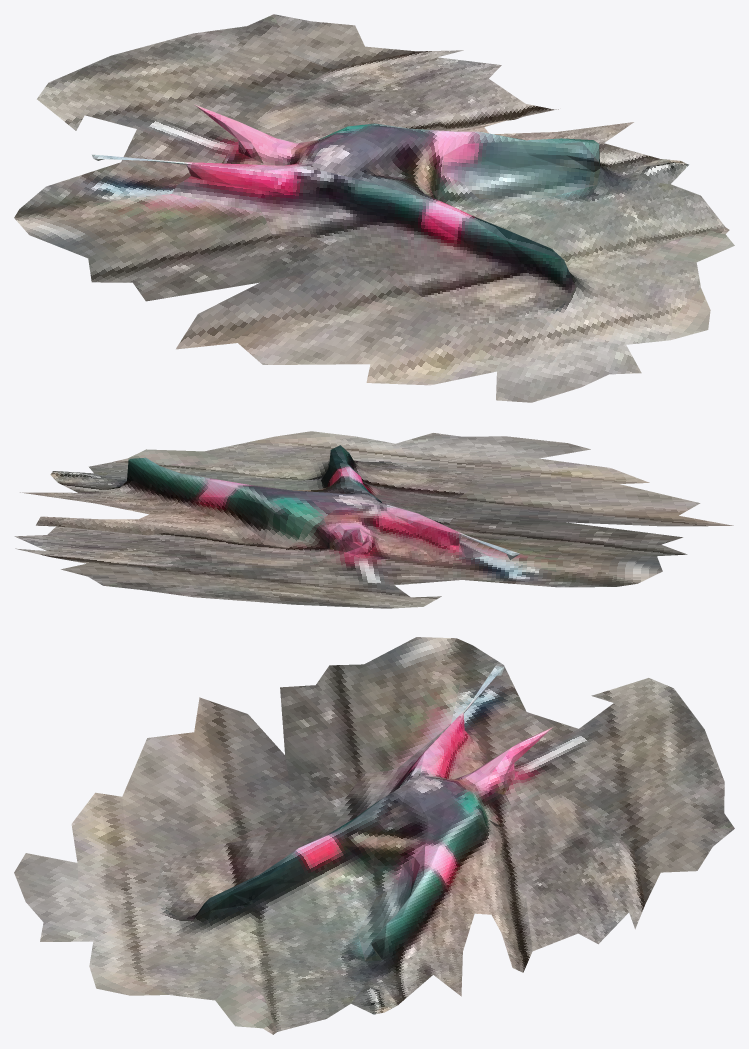
Rendered from 1024-garten.glb.
3 views of the same model, one above another, from view 1: azimuth 30°, elevation 25°; view 2: azimuth 150°, elevation 25°; view 3: azimuth 270°, elevation 25° (orthographic).
Visible parts, largest first — view 1: Mesh_0; view 2: Mesh_0; view 3: Mesh_0.
Boxes of the visible parts, box(x1,y1,x2,y2) form: Mesh_0: box(14, 14, 734, 402); Mesh_0: box(14, 431, 733, 608); Mesh_0: box(14, 637, 734, 1034).
Size of the model in its own units: 0.389 by 0.0733 by 0.3841.
1 material, 1 textured.
